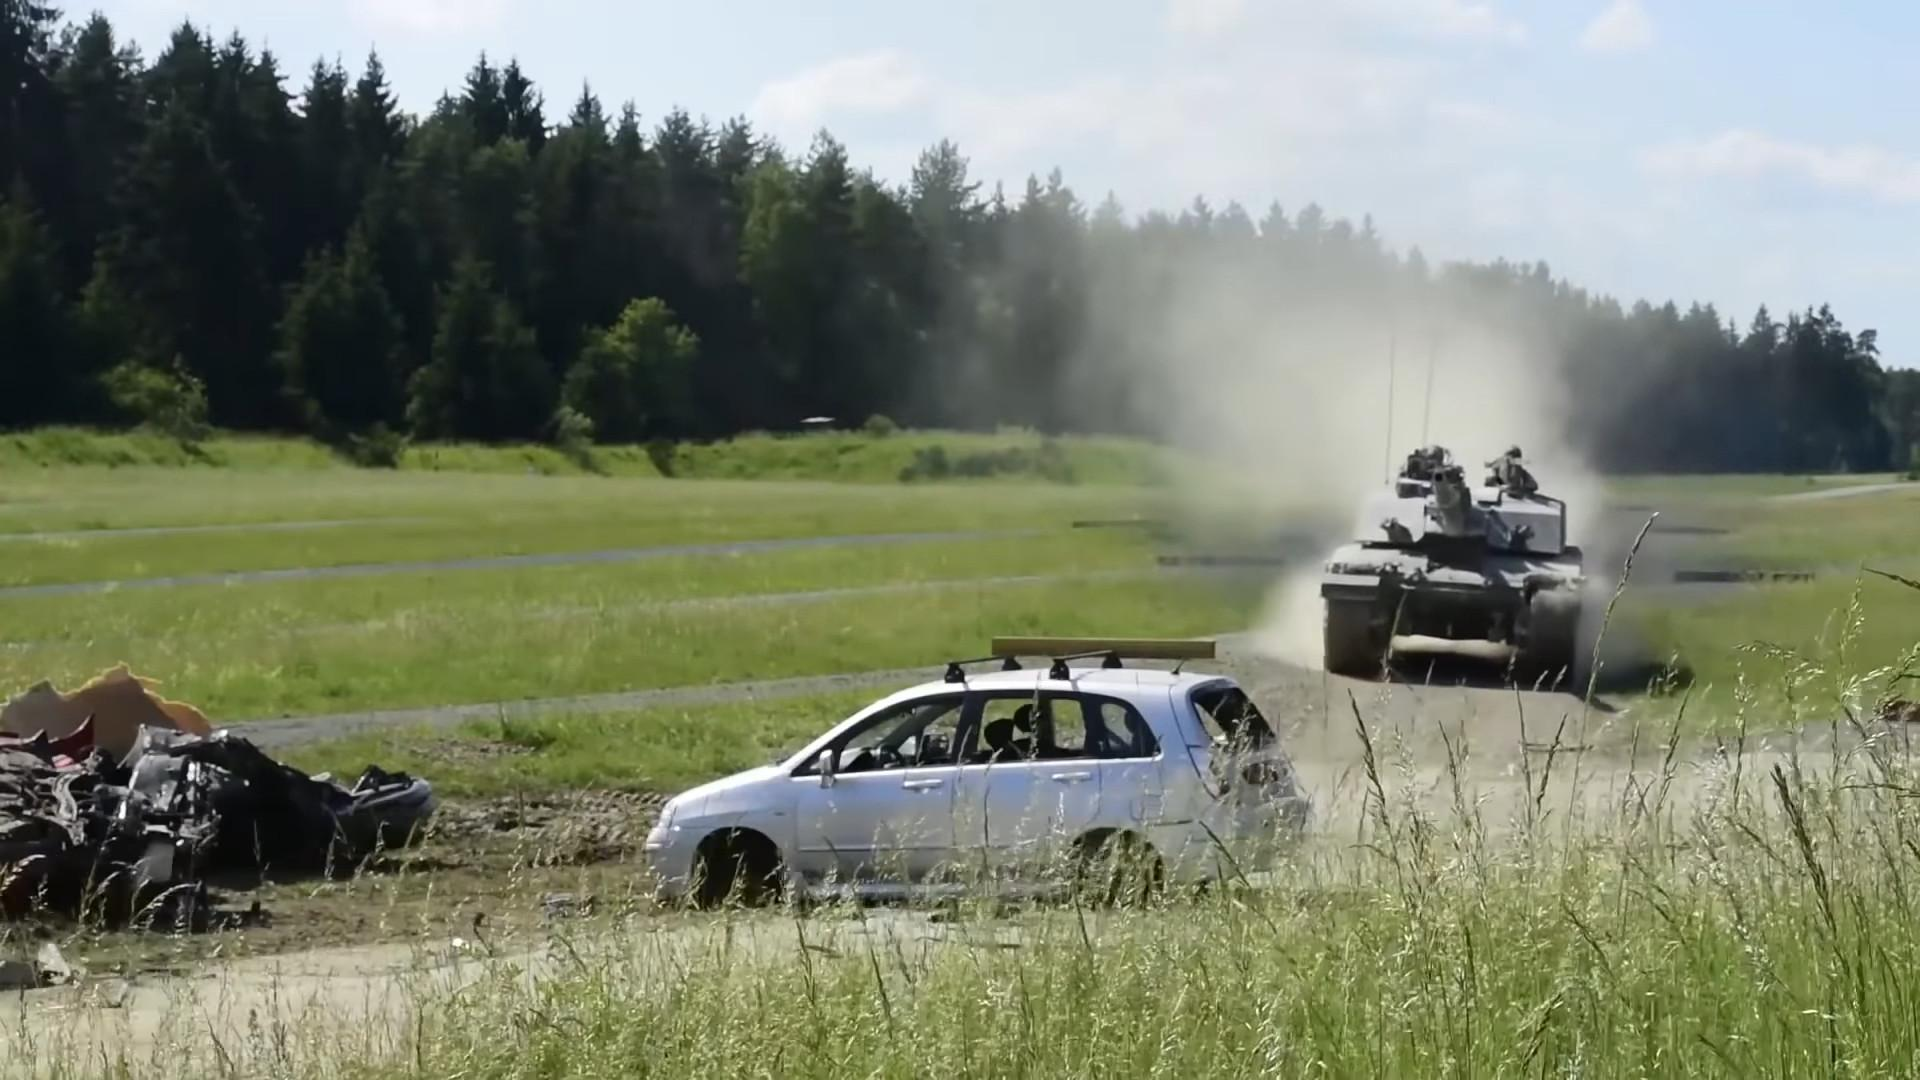tank: (1325, 448, 1582, 679)
